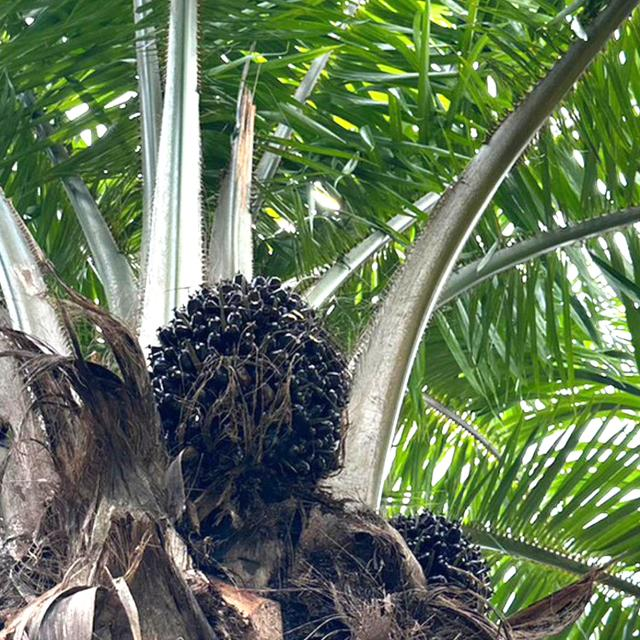unripe: (134, 262, 363, 529), (376, 502, 502, 626)
